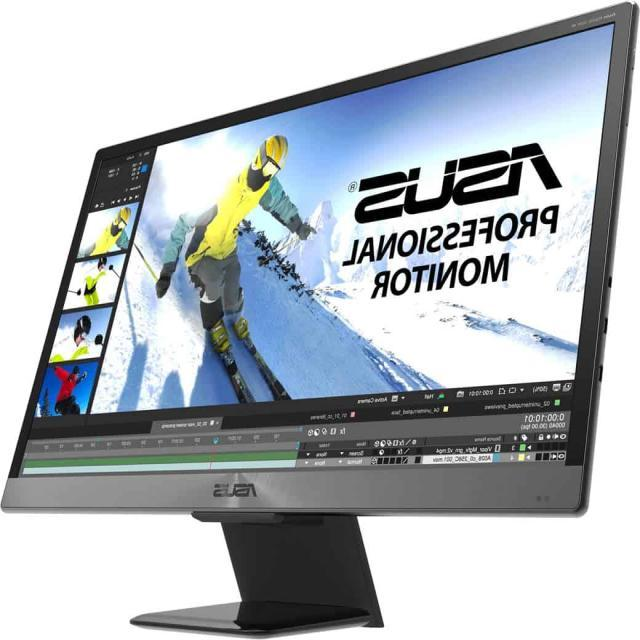monitor: (43, 44, 622, 616)
